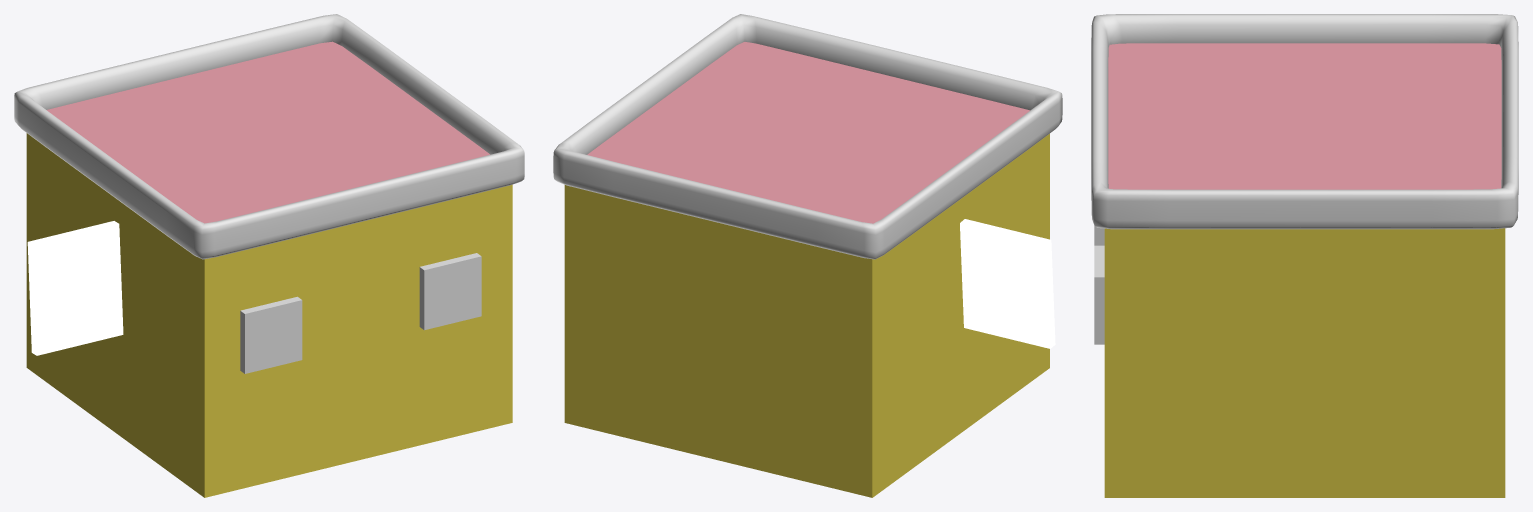
Rendered from casa2.glb.
3 renders of one model, left to right at view 1: azimuth 30°, elevation 25°; view 2: azimuth 150°, elevation 25°; view 3: azimuth 270°, elevation 25°, orthographic. The views are drawn at different scales.
Parts seen in each view (by area): view 1: House, Roof, banner, windows; view 2: House, Roof, banner; view 3: House, Roof, windows.
Part boxes in pixels (x1,y1,x2,y2): House: (26, 41, 512, 497); Roof: (14, 14, 524, 259); banner: (27, 221, 123, 355); windows: (240, 253, 481, 373); House: (564, 42, 1049, 497); Roof: (553, 14, 1062, 259); banner: (960, 219, 1055, 348); House: (1104, 43, 1505, 497); Roof: (1091, 14, 1518, 229); windows: (1094, 226, 1104, 344).
Bounding box in the file's own units: 2.85 × 1.85 × 2.31.
